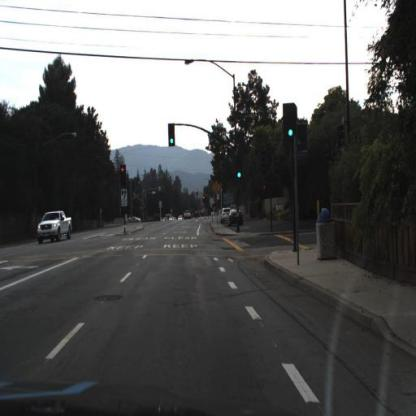car: (37, 211, 73, 244)
trafficLight: (284, 103, 298, 148), (121, 165, 126, 187)
trafficLight-Green: (236, 161, 244, 183), (170, 125, 176, 148)
